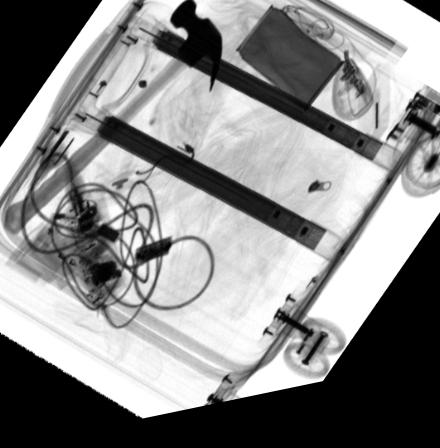Hammer: (2, 5, 222, 235)
